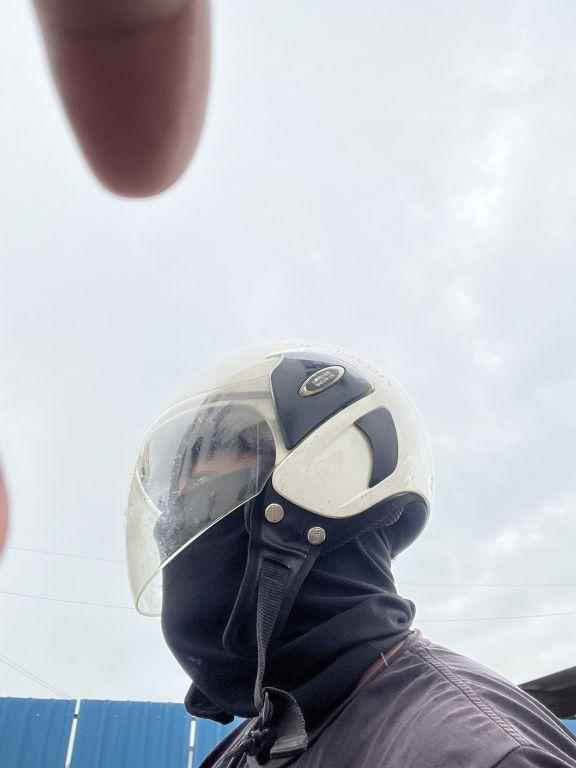helmet: (105, 314, 440, 639)
